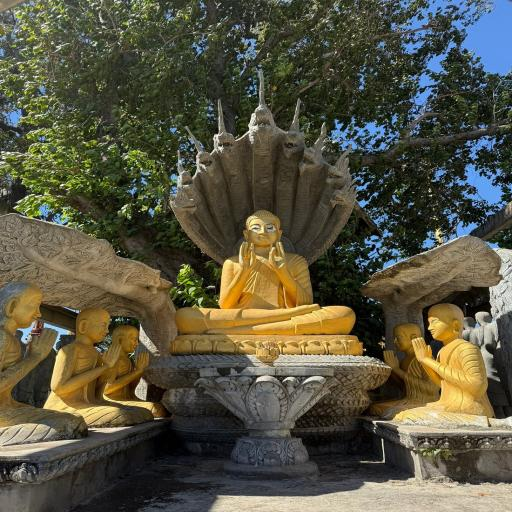ran: (139, 69, 360, 268)
than: (158, 209, 366, 355), (390, 286, 509, 434), (0, 276, 86, 440), (37, 298, 130, 434), (366, 312, 440, 424), (93, 314, 152, 408)
